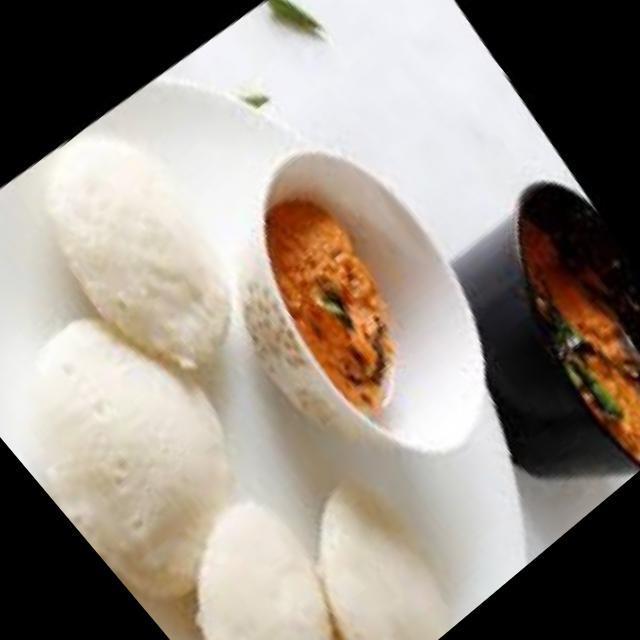idli: (0, 270, 306, 620), (0, 90, 285, 399), (133, 473, 414, 640), (259, 446, 490, 640)
